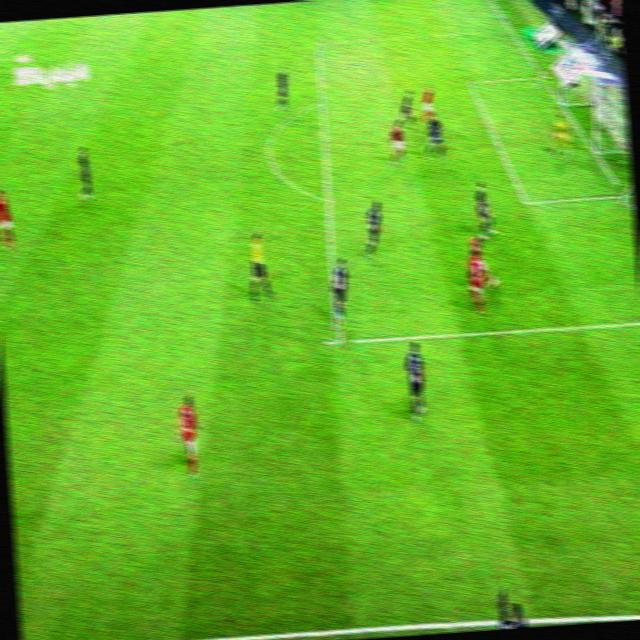bigarea_bottom_inner: (323, 328, 354, 352)
bigarea_top_inner: (314, 36, 324, 48)
bigarea_top_outter: (496, 18, 521, 42)
bottom_arc_area_intersection: (323, 193, 334, 204)
smallarea_bottom_inner: (518, 191, 534, 208)
smallarea_bottom_outter: (616, 183, 632, 203)
smallarea_top_inner: (466, 75, 476, 88)
smallarea_top_outter: (532, 68, 551, 86)
top_arc_area_intersection: (316, 96, 327, 106)
